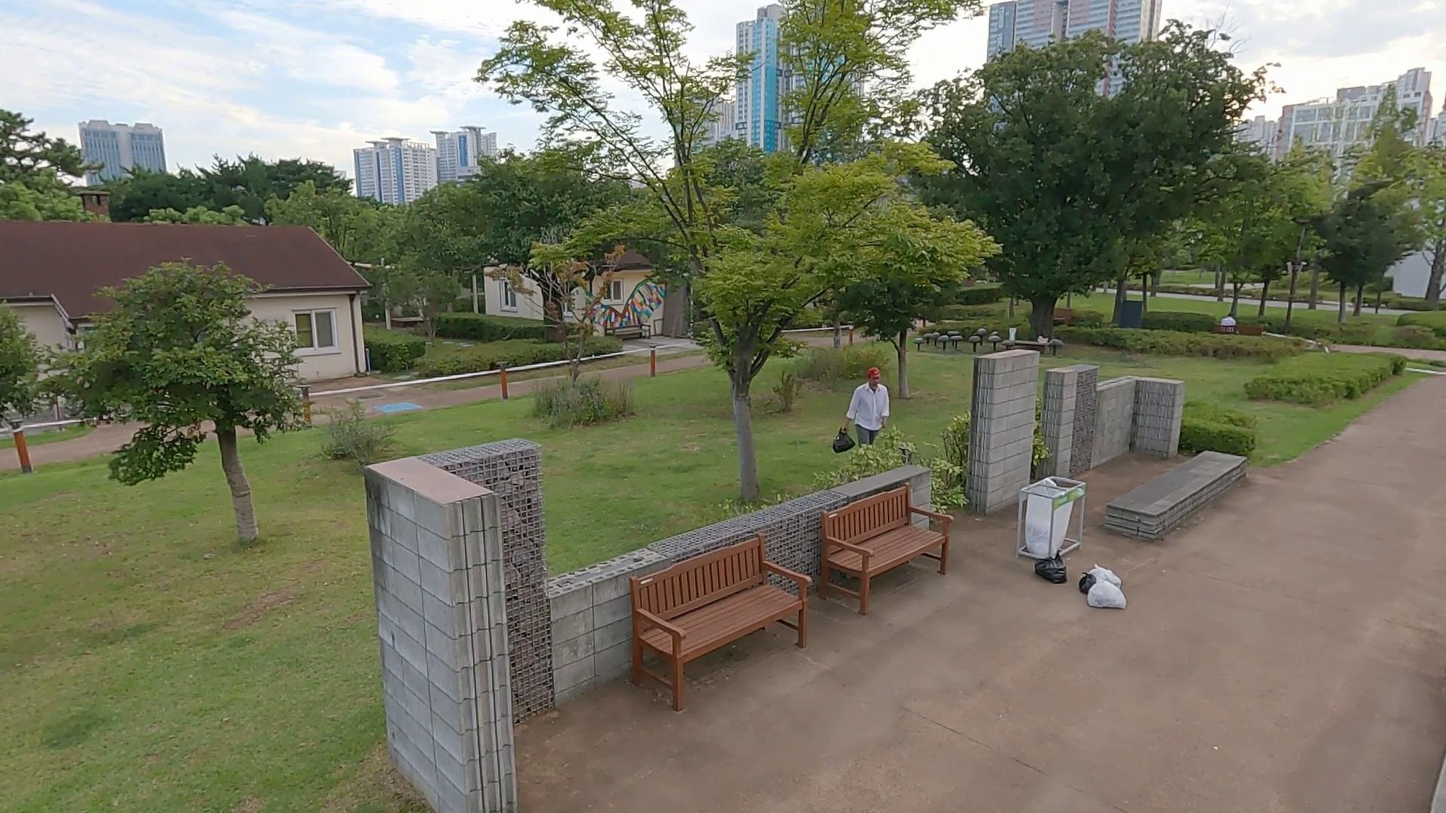person: (847, 365, 892, 459)
trash: (1032, 545, 1069, 585), (1086, 579, 1131, 610), (1088, 563, 1121, 590), (830, 425, 857, 455), (1075, 570, 1099, 596)
